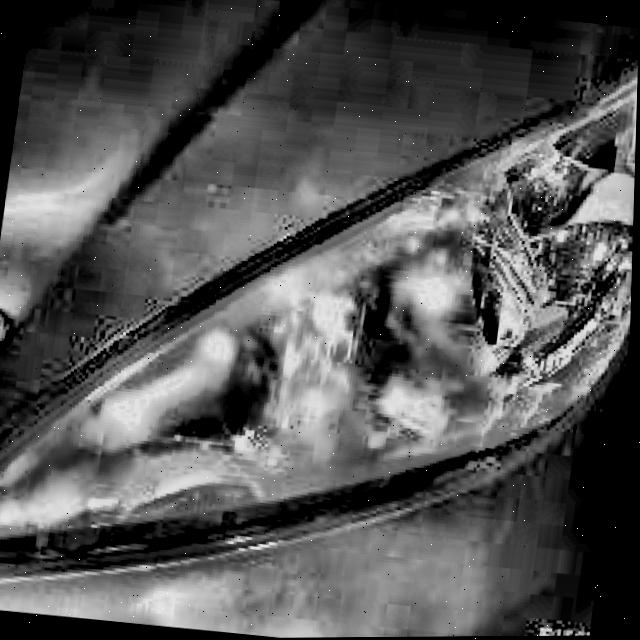head_lamp: (470, 111, 637, 396)
